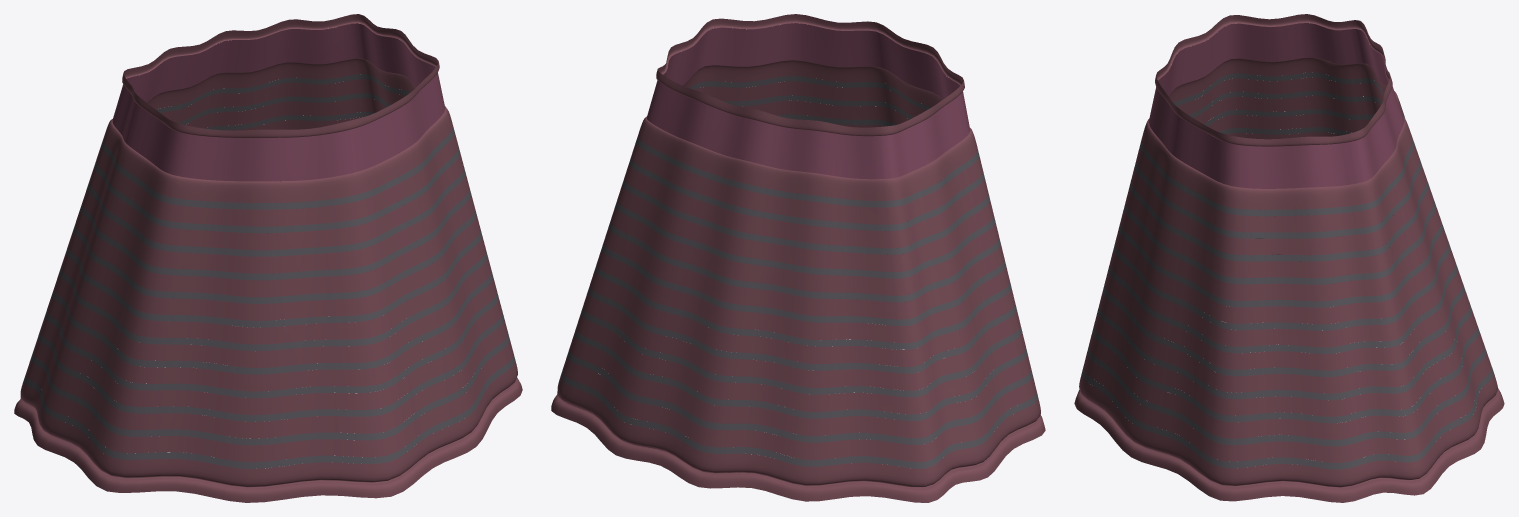
The model's file is skirt-transformed.glb.
3 renders of one model, left to right at view 1: azimuth 30°, elevation 25°; view 2: azimuth 150°, elevation 25°; view 3: azimuth 270°, elevation 25°, orthographic. The views are drawn at different scales.
Parts seen in each view (by area): view 1: top skirt; view 2: top skirt; view 3: top skirt.
Boxes of the visible parts, bbox=[...] form: top skirt: bbox=[14, 14, 522, 502]; top skirt: bbox=[551, 14, 1045, 502]; top skirt: bbox=[1074, 14, 1504, 502].
Bounding box in the file's own units: 3.19 × 2.47 × 2.93.
